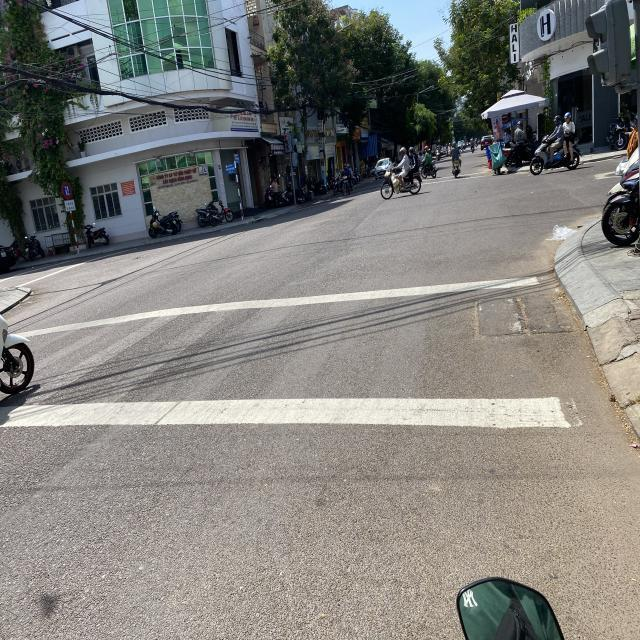walk-crossing: (10, 278, 601, 426)
